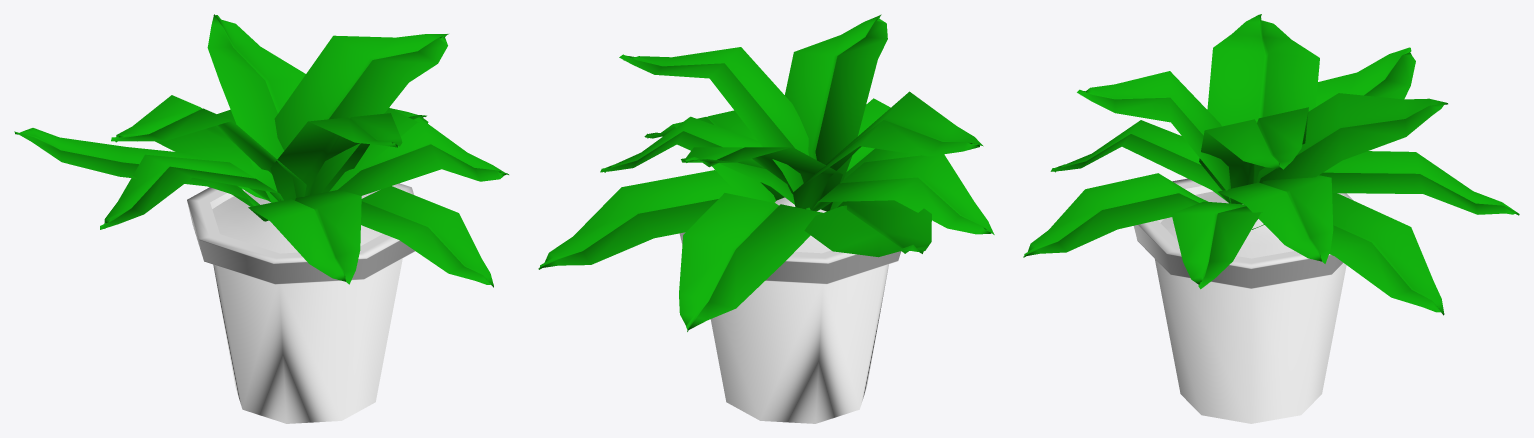
Rendered from plant.dae.
3 views of the same model, side by side, from view 1: azimuth 30°, elevation 25°; view 2: azimuth 150°, elevation 25°; view 3: azimuth 270°, elevation 25° (orthographic). The views are drawn at different scales.
Visible parts, largest first — view 1: Circle, Plane.009, Plane.011, Plane.005, Plane.002, Plane.010, Plane.006, Plane.003, Plane.008, Plane, Circle.001, Plane.001 (+1 smaller); view 2: Circle, Plane.001, Plane.010, Plane.007, Plane.009, Plane.003, Plane.008, Plane, Plane.004, Plane.011, Plane.006, Plane.002 (+1 smaller); view 3: Circle, Plane.008, Plane.011, Plane.007, Plane.005, Plane.001, Plane.004, Plane.010, Plane.009, Plane.006, Plane.002, Plane (+1 smaller).
Part boxes in pixels (<box>): Circle: <box>187,183,415,423</box>; Plane.009: <box>274,34,448,195</box>; Plane.011: <box>207,14,305,202</box>; Plane.005: <box>361,186,493,287</box>; Plane.002: <box>248,189,361,284</box>; Plane.010: <box>270,113,402,200</box>; Plane.006: <box>338,117,508,195</box>; Plane.003: <box>100,154,283,229</box>; Plane.008: <box>111,95,306,197</box>; Plane: <box>14,128,259,206</box>; Circle.001: <box>212,190,382,253</box>; Plane.001: <box>155,109,267,200</box>; Circle: <box>679,232,901,423</box>; Plane.001: <box>679,193,822,331</box>; Plane.010: <box>785,14,887,182</box>; Plane.007: <box>538,170,740,269</box>; Plane.009: <box>619,47,810,209</box>; Plane.003: <box>811,154,994,234</box>; Plane.008: <box>793,91,983,210</box>; Plane: <box>804,200,931,257</box>; Plane.004: <box>600,116,794,204</box>; Plane.011: <box>681,147,842,211</box>; Plane.006: <box>644,110,775,202</box>; Plane.002: <box>830,98,920,210</box>; Circle: <box>1134,178,1353,423</box>; Plane.008: <box>1207,14,1319,126</box>; Plane.011: <box>1255,93,1447,219</box>; Plane.007: <box>1252,193,1444,315</box>; Plane.005: <box>1023,173,1208,257</box>; Plane.001: <box>1319,151,1519,215</box>; Plane.004: <box>1218,175,1333,263</box>; Plane.010: <box>1077,71,1231,203</box>; Plane.009: <box>1199,107,1308,190</box>; Plane.006: <box>1171,201,1262,289</box>; Plane.002: <box>1050,120,1227,201</box>; Plane: <box>1315,47,1415,106</box>.
Size of the model in its own units: 6.16 by 7.02 by 4.9.
